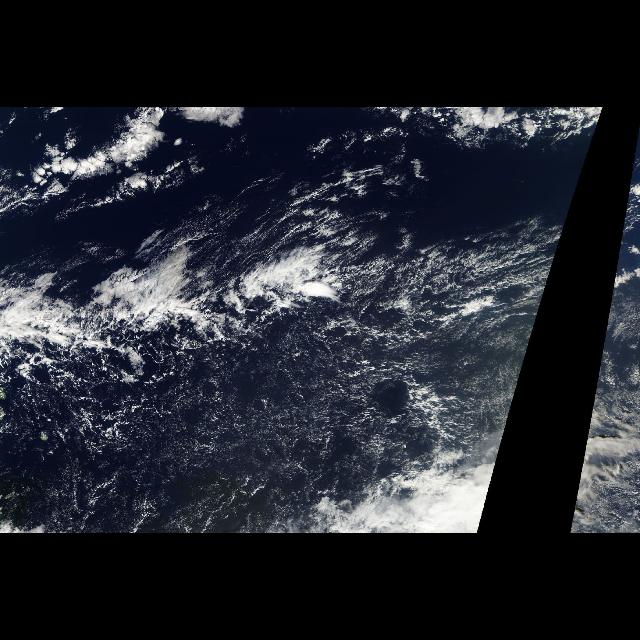Fish: (0, 202, 452, 382)
Sugar: (12, 353, 370, 529)
